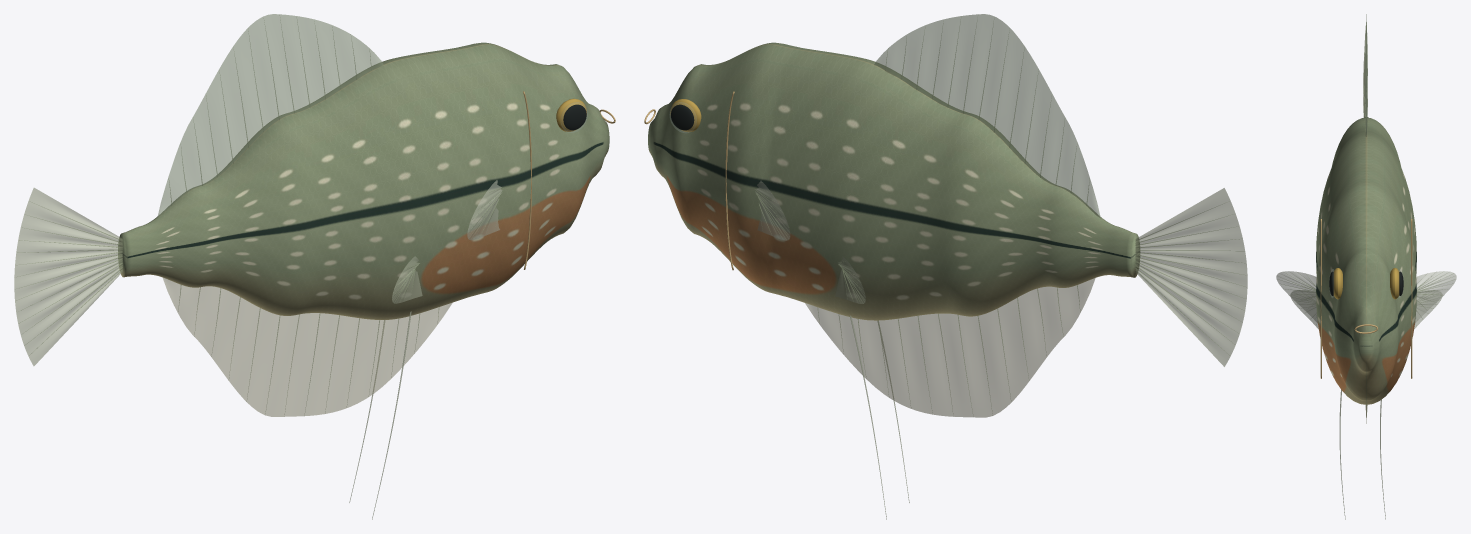
File: pearlgourami-desktop.glb
The picture shows the model from 3 angles, left to right: view 1: azimuth 30°, elevation 25°; view 2: azimuth 150°, elevation 25°; view 3: azimuth 270°, elevation 25°; orthographic projection. The views are drawn at different scales.
Parts seen in each view (by area): view 1: skin, anal, dorsal, tail, dorsal-ray, pelvic-left, pectoral-left; view 2: skin, anal, dorsal, tail, dorsal-ray, pelvic-left, pectoral-left; view 3: skin, pectoral-left, pelvic-left, dorsal-ray, operculum, eye-iris--1, dorsal.
Boxes of the visible parts, left/top/right/bottom form: skin: left=118, top=42, right=609, bottom=319; anal: left=163, top=278, right=452, bottom=416; dorsal: left=157, top=14, right=383, bottom=217; tail: left=14, top=188, right=122, bottom=365; dorsal-ray: left=16, top=15, right=502, bottom=416; pelvic-left: left=349, top=256, right=422, bottom=519; pectoral-left: left=467, top=180, right=502, bottom=240; skin: left=648, top=42, right=1139, bottom=320; anal: left=805, top=278, right=1095, bottom=417; dorsal: left=874, top=14, right=1100, bottom=218; tail: left=1135, top=188, right=1247, bottom=366; dorsal-ray: left=755, top=15, right=1246, bottom=416; pelvic-left: left=835, top=257, right=909, bottom=519; pectoral-left: left=755, top=180, right=790, bottom=240; skin: left=1316, top=117, right=1416, bottom=404; pectoral-left: left=1276, top=271, right=1456, bottom=323; pelvic-left: left=1291, top=290, right=1441, bottom=519; dorsal-ray: left=1280, top=22, right=1454, bottom=417; operculum: left=1320, top=219, right=1412, bottom=378; eye-iris--1: left=1333, top=268, right=1399, bottom=299; dorsal: left=1365, top=14, right=1367, bottom=136.
Size of the model in its own units: 0.5852 by 0.4862 by 0.1718.
Materials: 11 (1 with a texture image).
